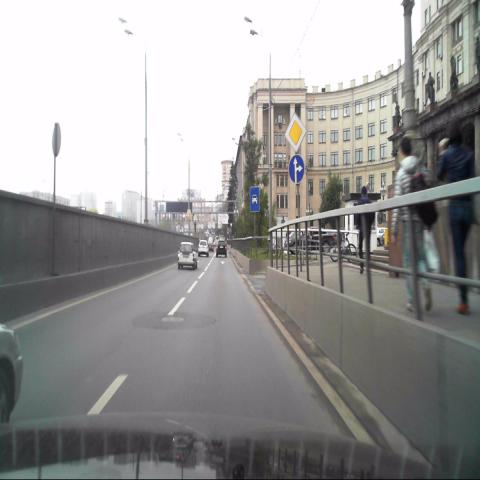2_1: (285, 113, 306, 153)
5_3: (250, 187, 259, 213)
